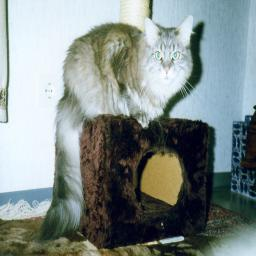catnose: (161, 63, 173, 74)
